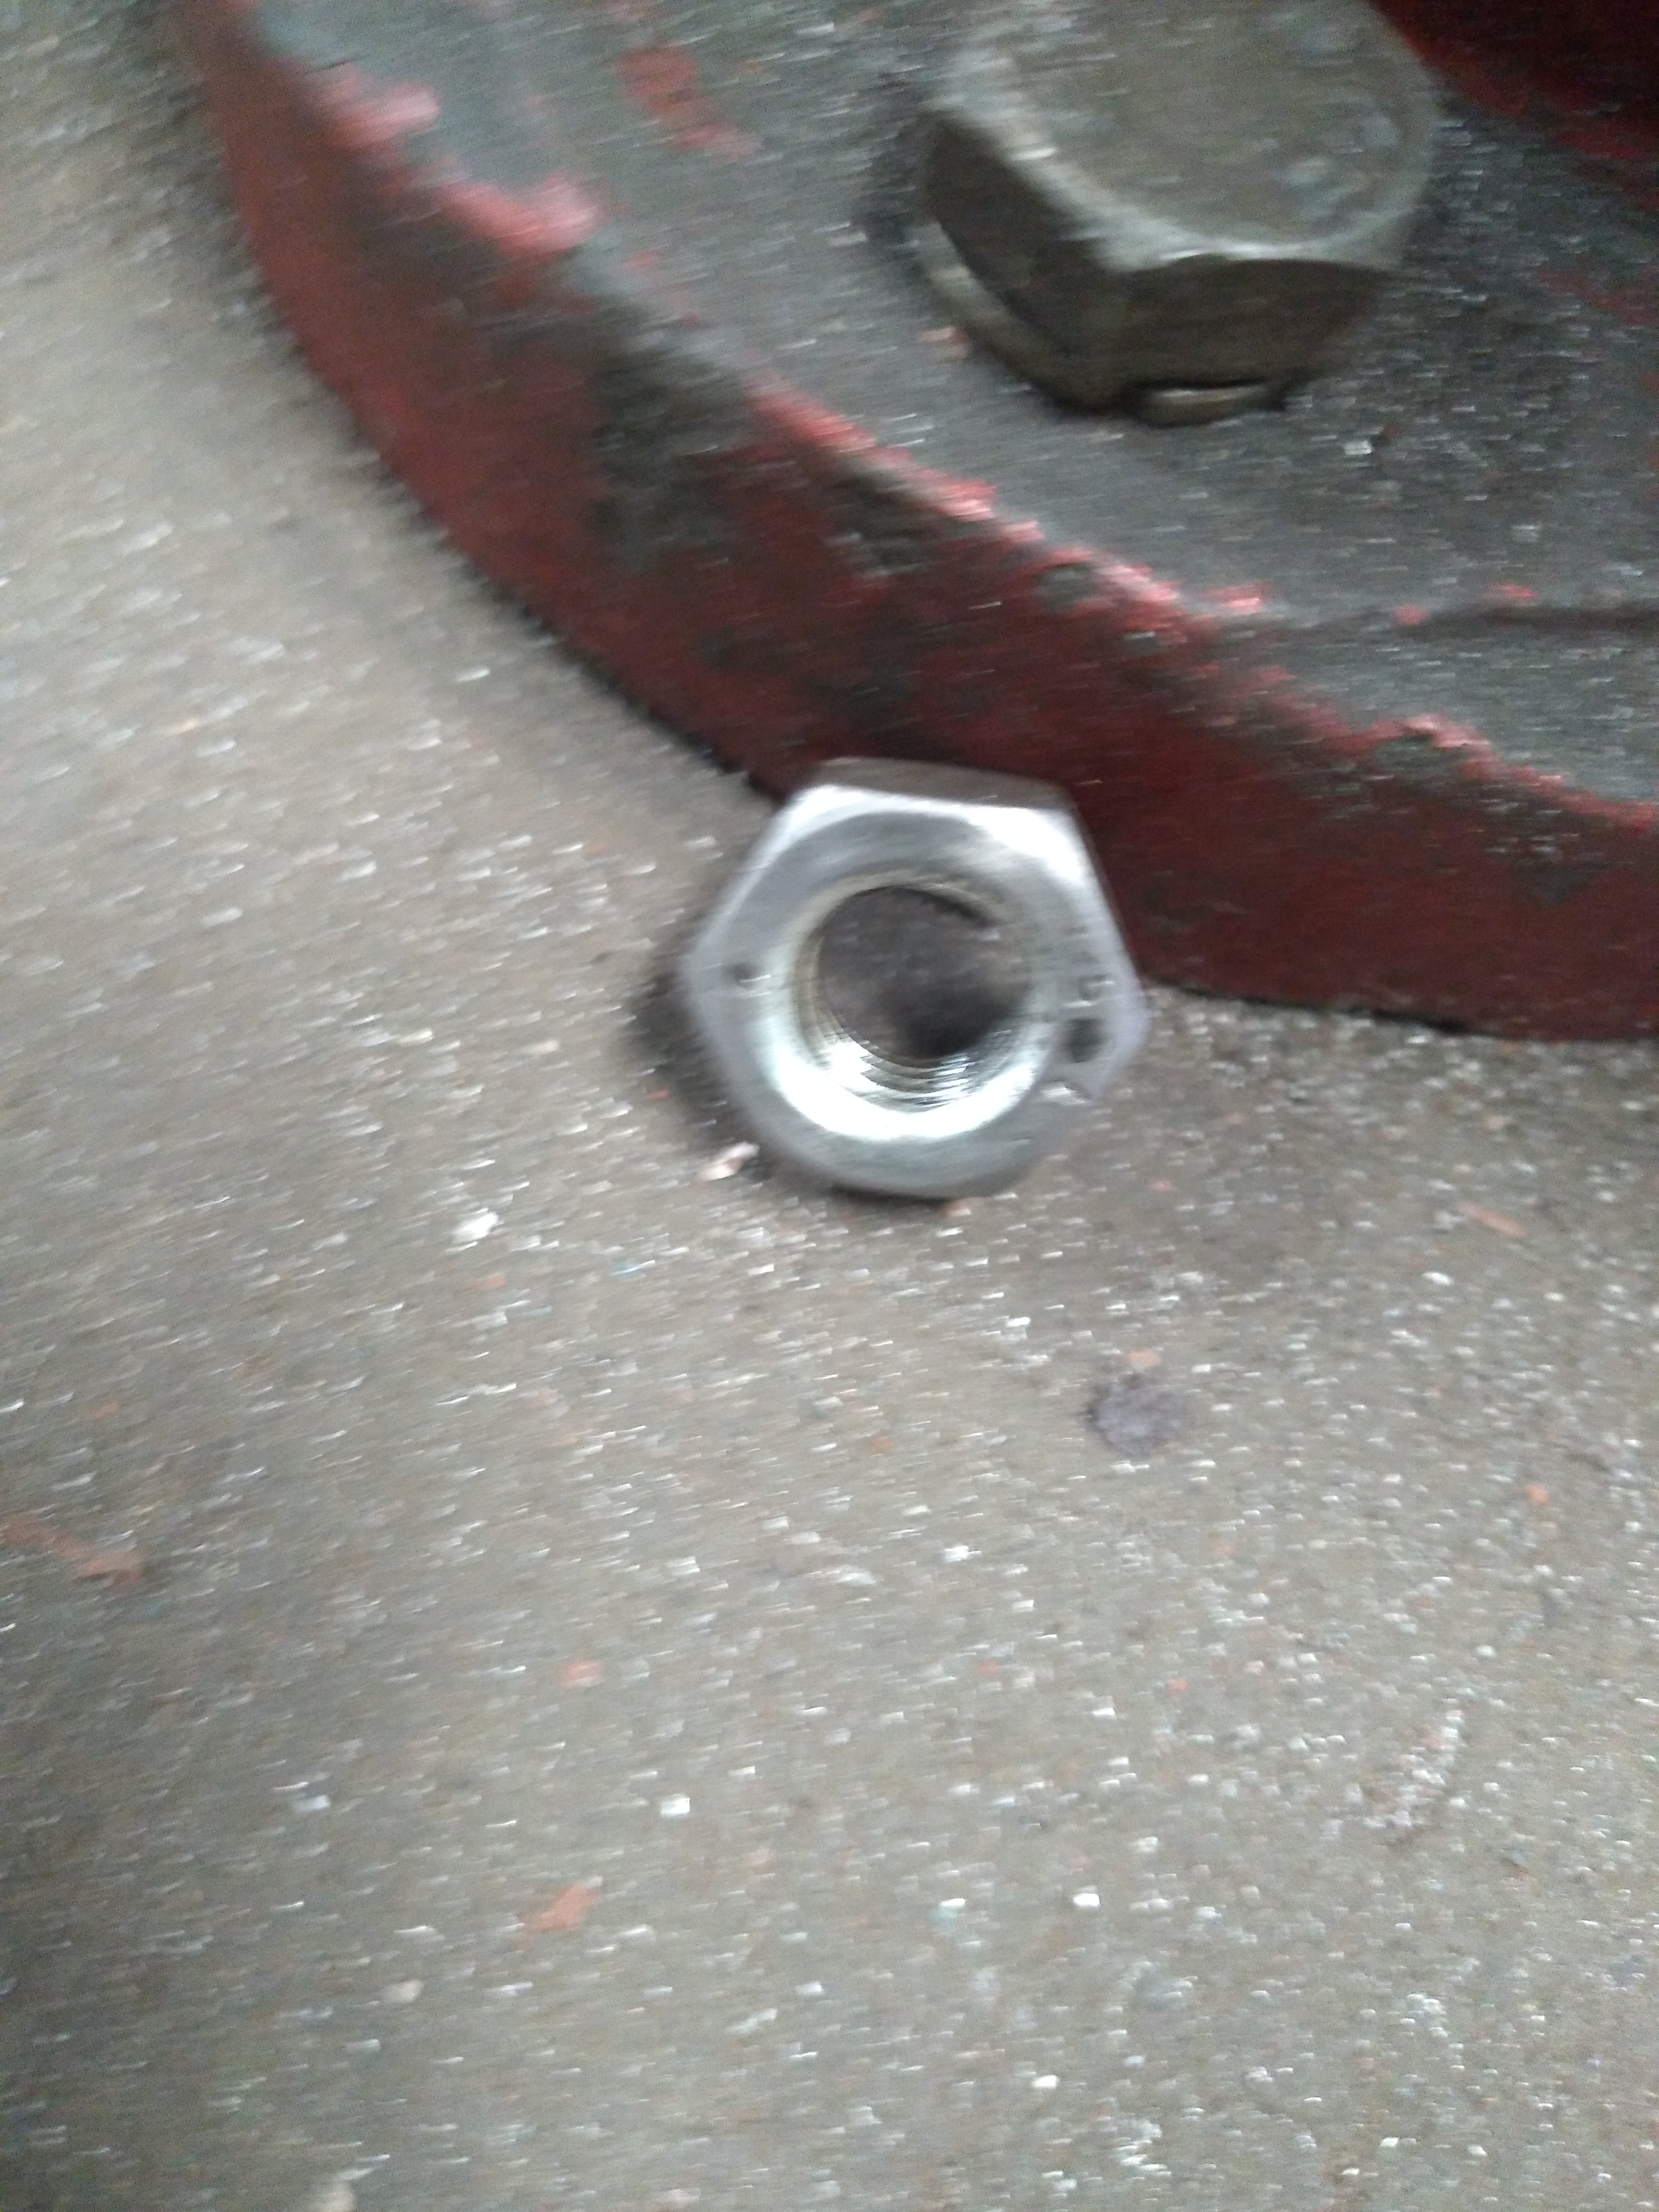Thread: (751, 834, 1065, 1134)
